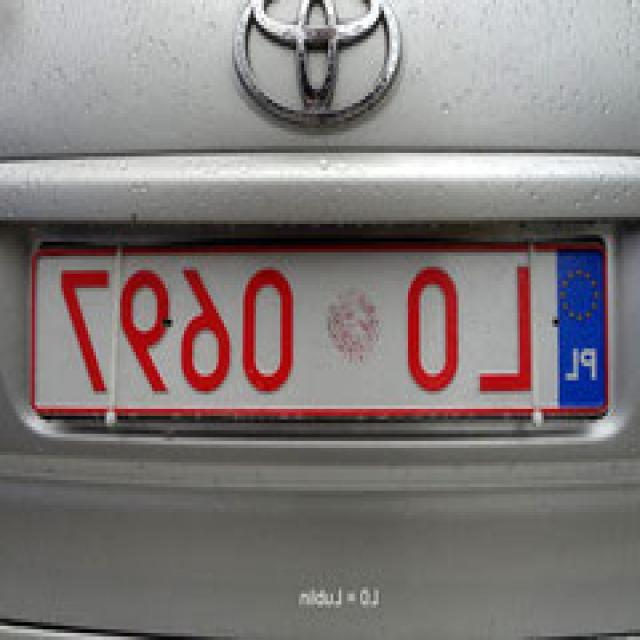pl_license_plate: (34, 242, 610, 409)
